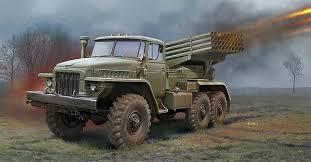MIL_SAM_TEL: (36, 29, 245, 147)
